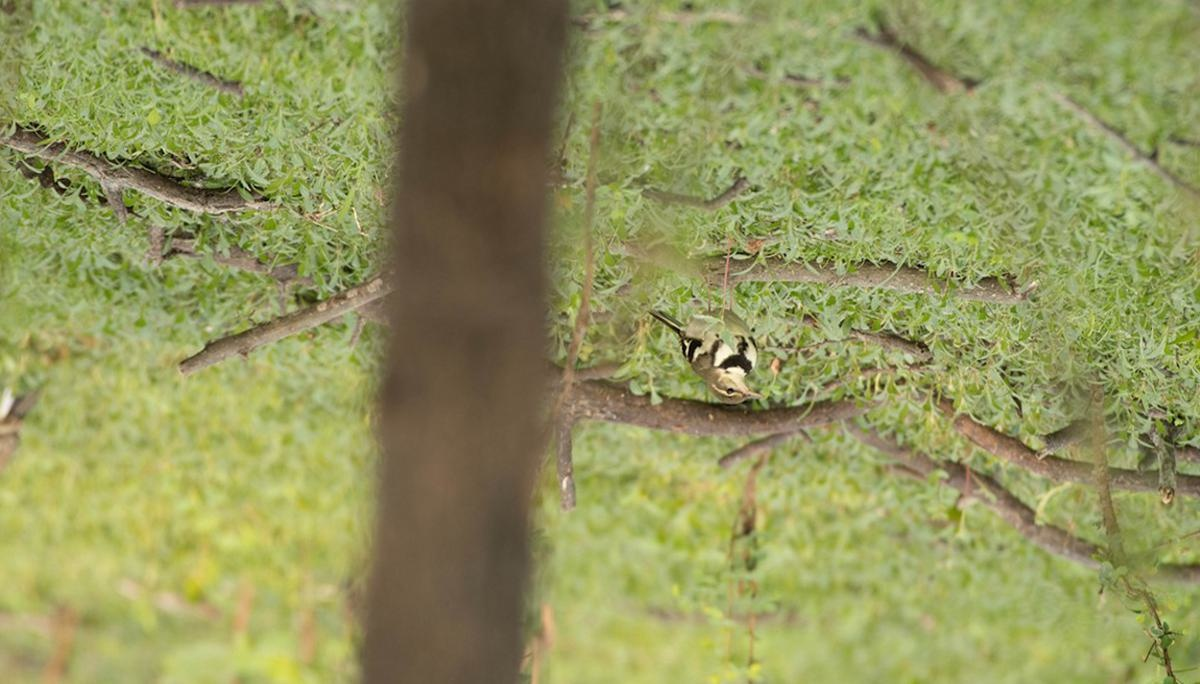wagtail: (659, 252, 796, 408)
